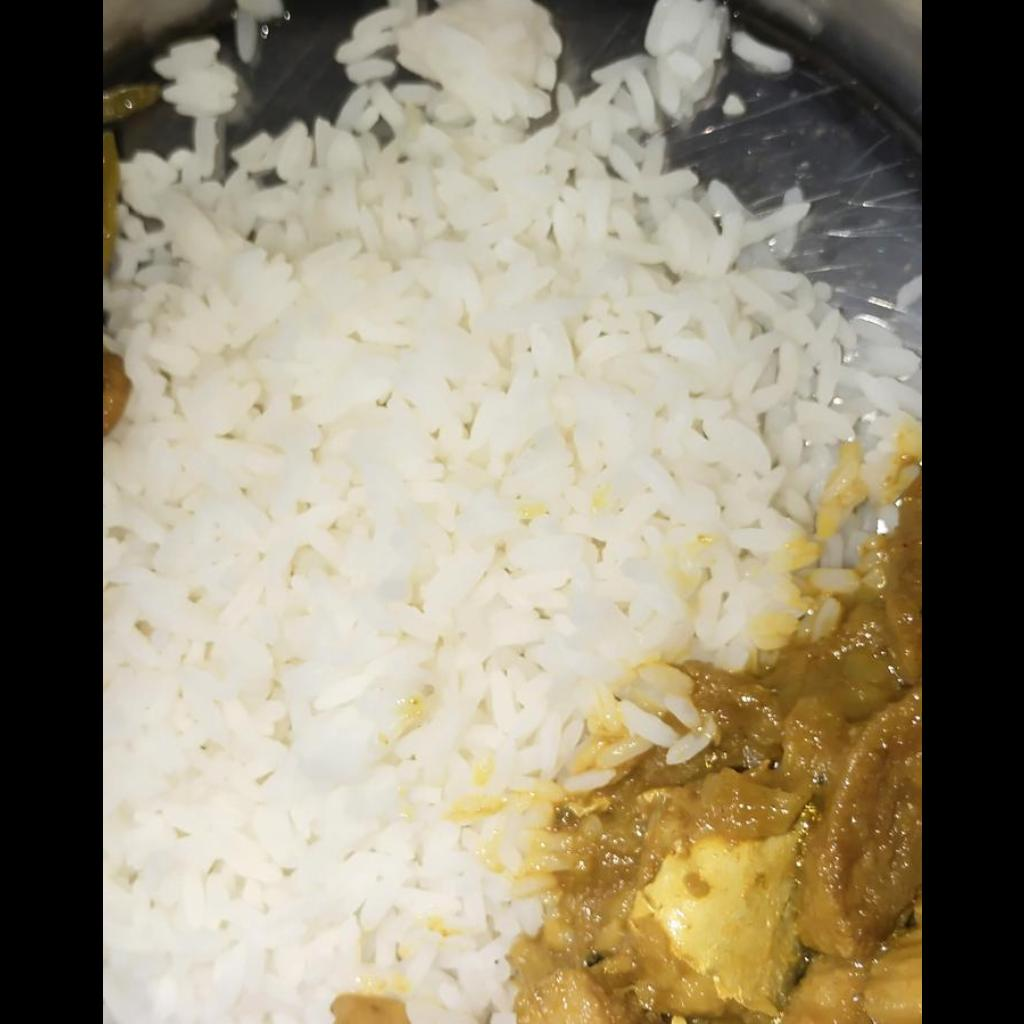chicken: (504, 494, 920, 1023)
rice: (102, 0, 920, 1023)
